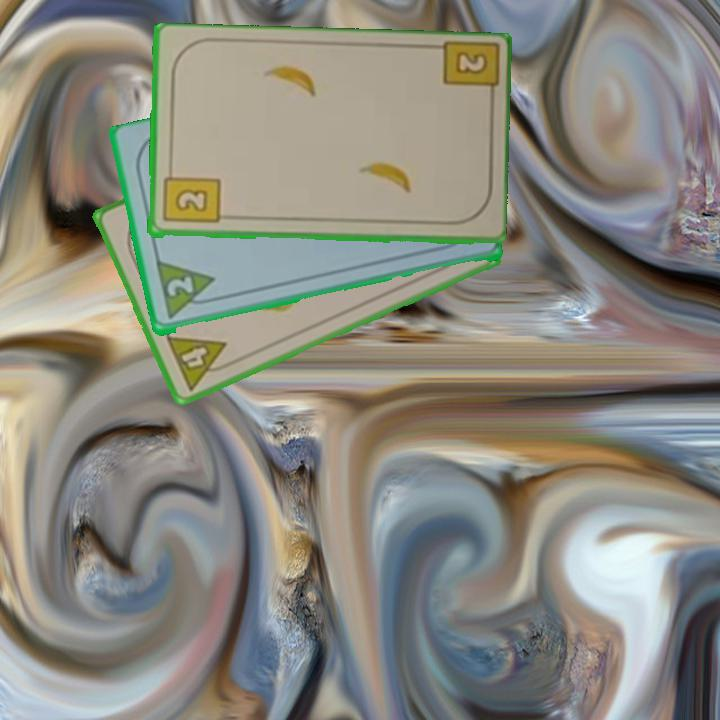2b: (437, 40, 498, 107), (159, 164, 222, 227)
2p: (152, 259, 221, 323)
4p: (162, 332, 237, 394)
